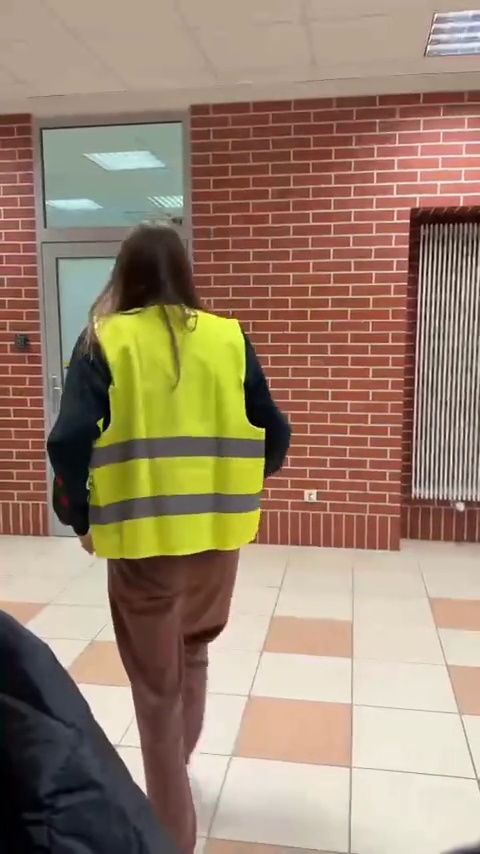vest: (47, 219, 302, 854)
